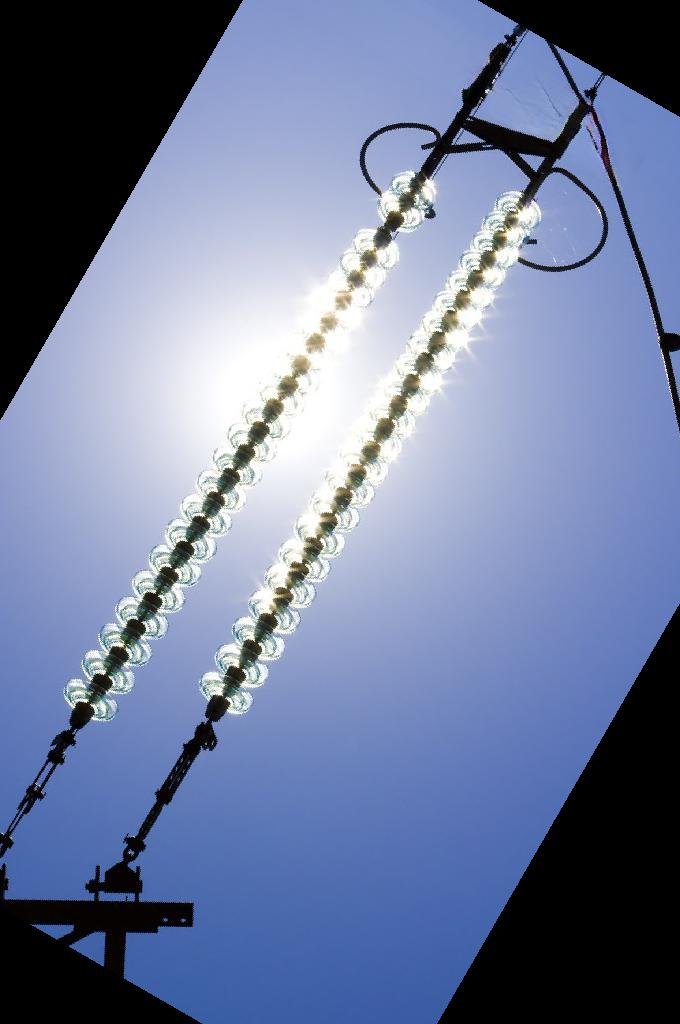insulator: (58, 160, 445, 732), (193, 183, 549, 718)
insulator_stringdrop: (350, 189, 427, 269)
